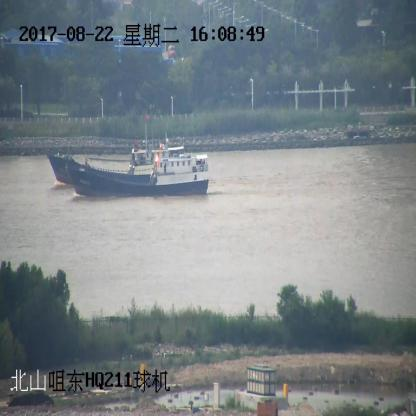Fishing Boat: (47, 115, 185, 187), (67, 147, 208, 197)
